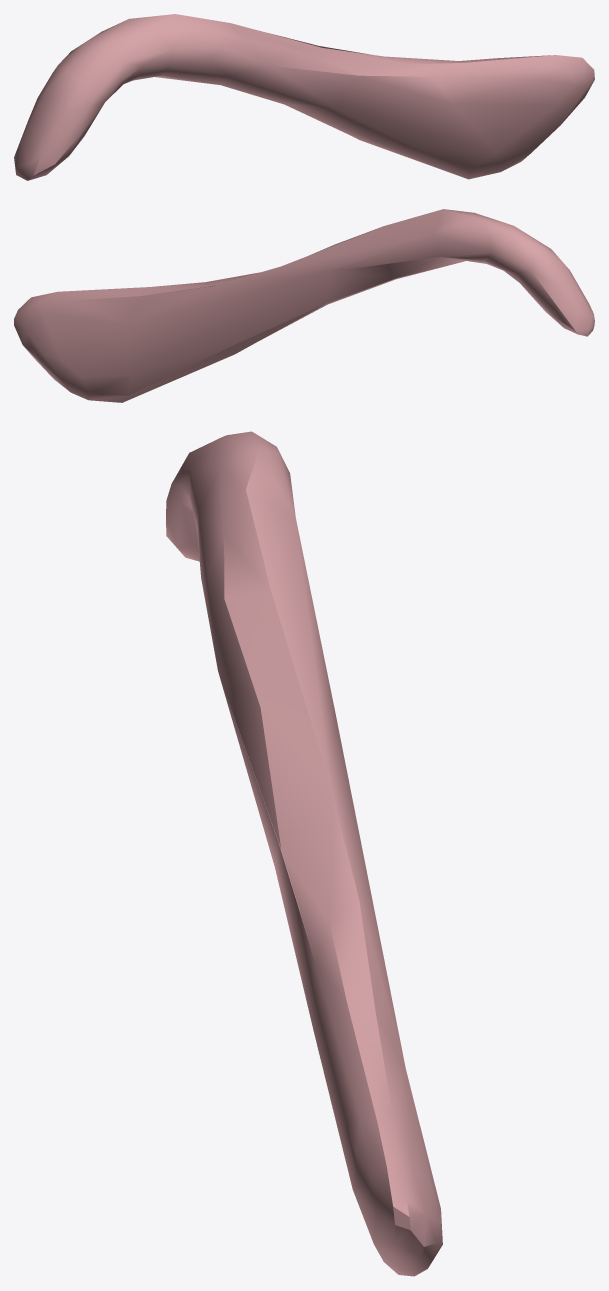
Rendered from fma59574_mm2241m.glb.
3 views of the same model, one above another, from view 1: azimuth 30°, elevation 25°; view 2: azimuth 150°, elevation 25°; view 3: azimuth 270°, elevation 25° (orthographic). The views are drawn at different scales.
Parts seen in each view (by area): view 1: FMA59574_MM2241M; view 2: FMA59574_MM2241M; view 3: FMA59574_MM2241M.
Boxes of the visible parts, box(x1,y1,x2,y2) form: FMA59574_MM2241M: box(14, 14, 594, 180); FMA59574_MM2241M: box(14, 209, 594, 402); FMA59574_MM2241M: box(166, 431, 442, 1276).
Size of the model in its own units: 0.00506 by 0.00219 by 0.00115.
